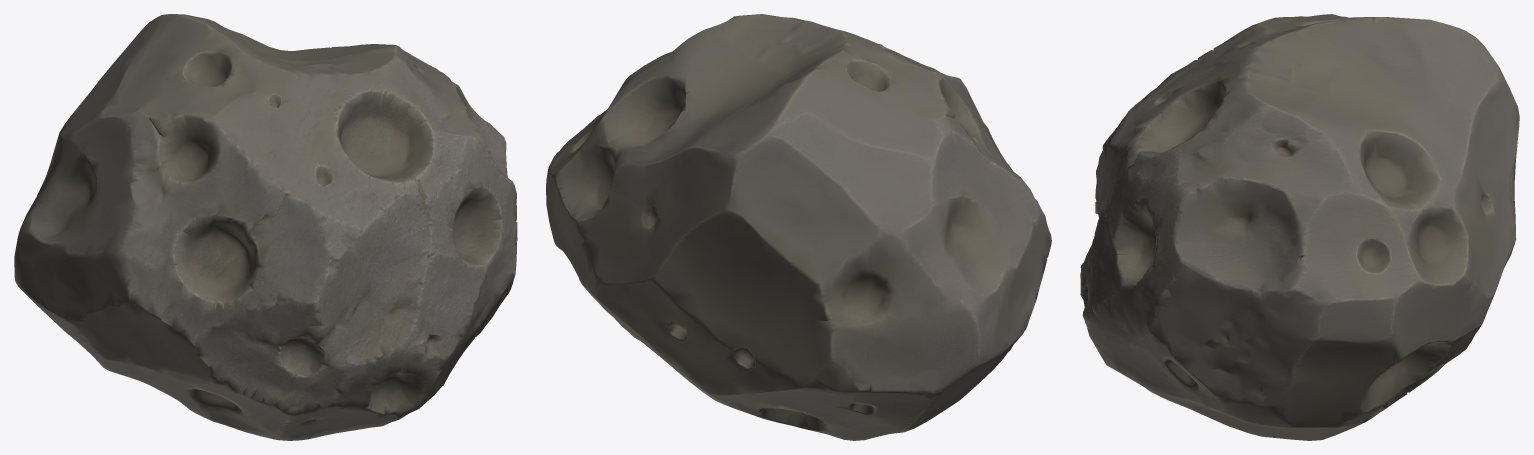
File: runtime_medium_01.glb
3 renders of one model, left to right at view 1: azimuth 30°, elevation 25°; view 2: azimuth 150°, elevation 25°; view 3: azimuth 270°, elevation 25°, orthographic. The views are drawn at different scales.
Parts seen in each view (by area): view 1: tripo_node_9915318f-c911-4a86-8b42-cca6840c64a1; view 2: tripo_node_9915318f-c911-4a86-8b42-cca6840c64a1; view 3: tripo_node_9915318f-c911-4a86-8b42-cca6840c64a1.
Boxes of the visible parts, x1,y1,x2,y2 form: tripo_node_9915318f-c911-4a86-8b42-cca6840c64a1: (14, 14, 517, 440); tripo_node_9915318f-c911-4a86-8b42-cca6840c64a1: (546, 14, 1051, 440); tripo_node_9915318f-c911-4a86-8b42-cca6840c64a1: (1080, 14, 1519, 440).
Bounding box in the file's own units: 0.9802 × 0.7885 × 0.8226.
Materials: 1 (1 with a texture image).
